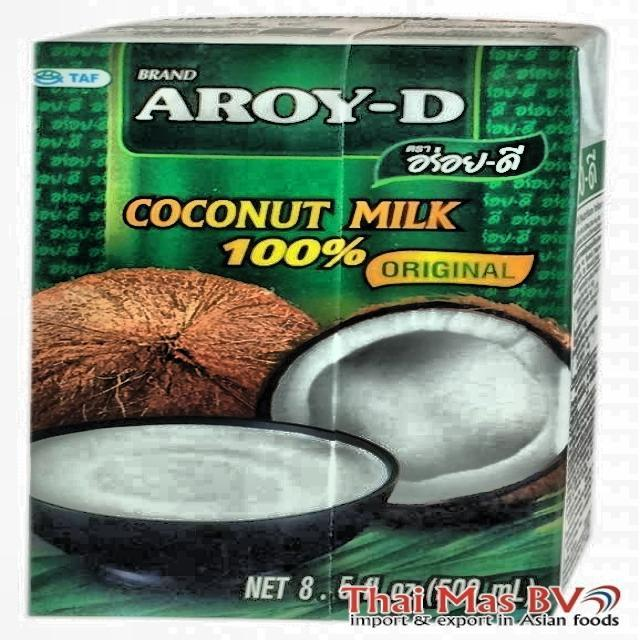cardboard: (29, 14, 607, 621)
